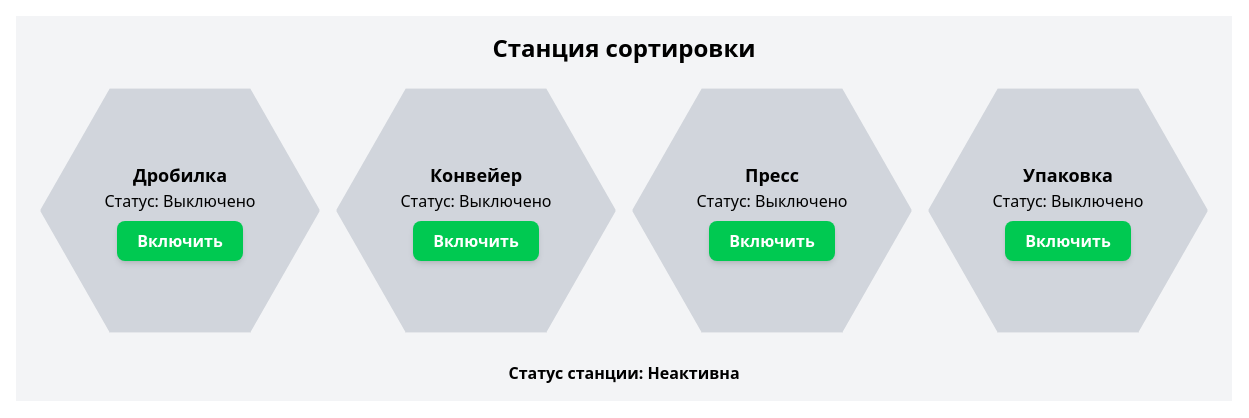
Scenario: Station Component › возвращает статус станции к 'Неактивна' при выключении всех устройств
Click the button "Включить" below "Дробилка".
click(180, 240)  # box left=117, top=220, right=243, bottom=260
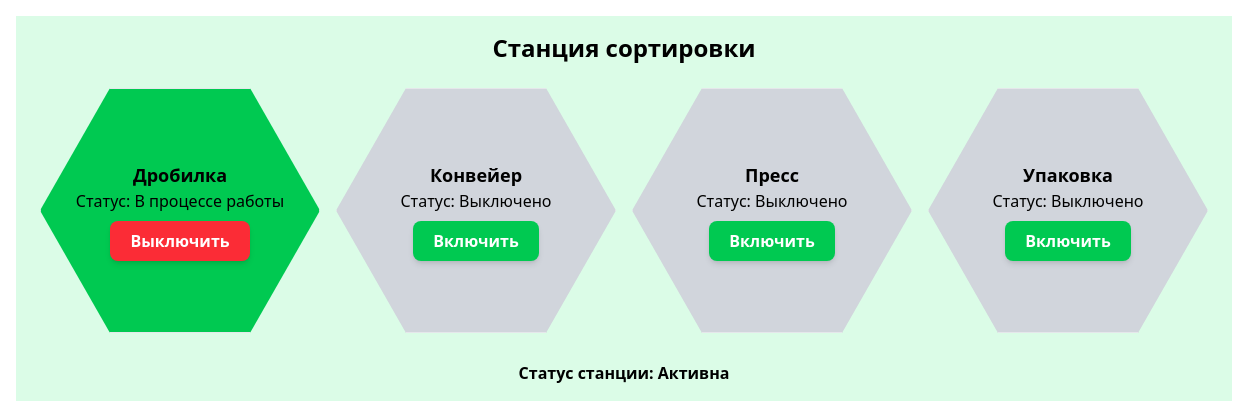
Click the button named "Включить".
click(180, 240)  # box left=110, top=220, right=250, bottom=260
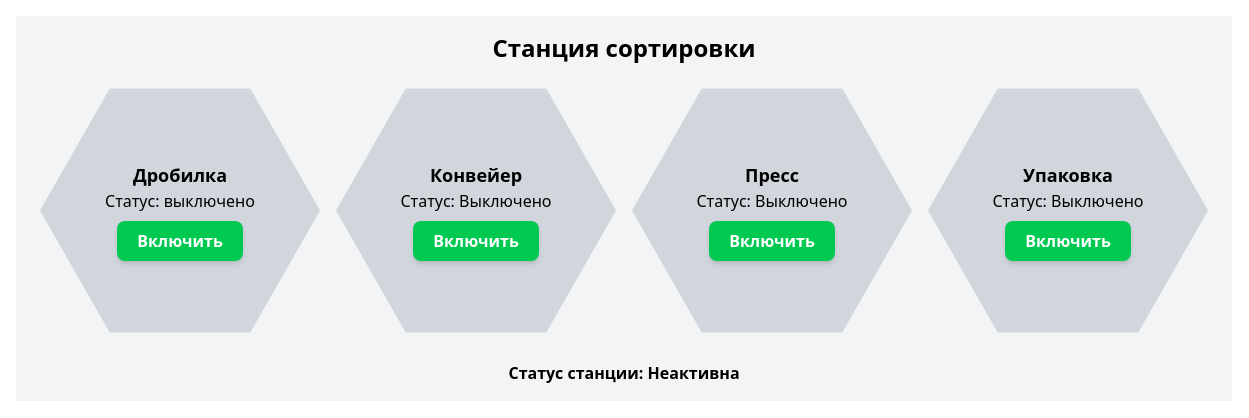
Expected: the text "Статус станции: Неактивна" is shown, left=508, top=362, right=740, bottom=384
